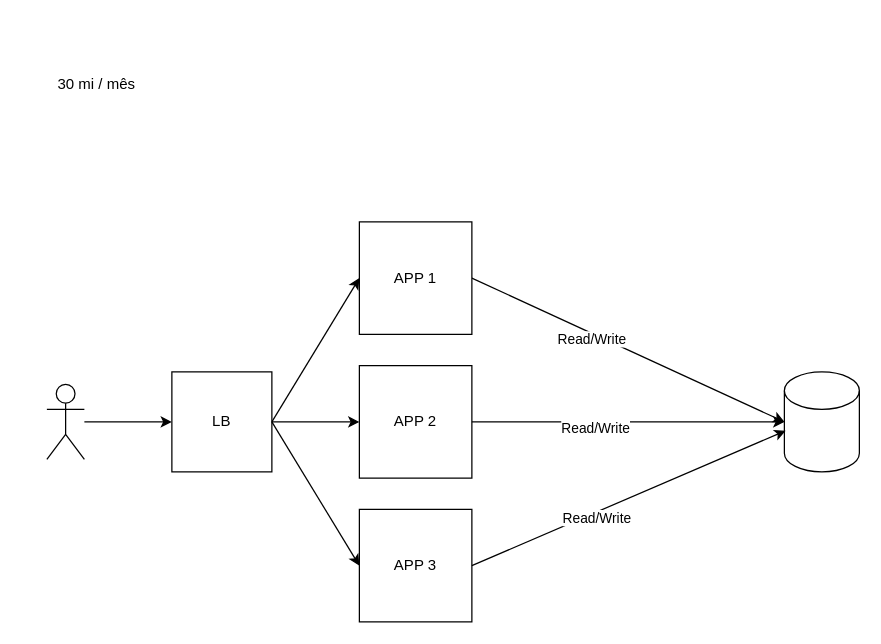
This 881x644 diagram has some shape labels left out. The box of each missing label's shape, as (x1, y1, x2, y2) in pixels:
Actor: (46, 383, 84, 459)
DB: (783, 371, 859, 472)
